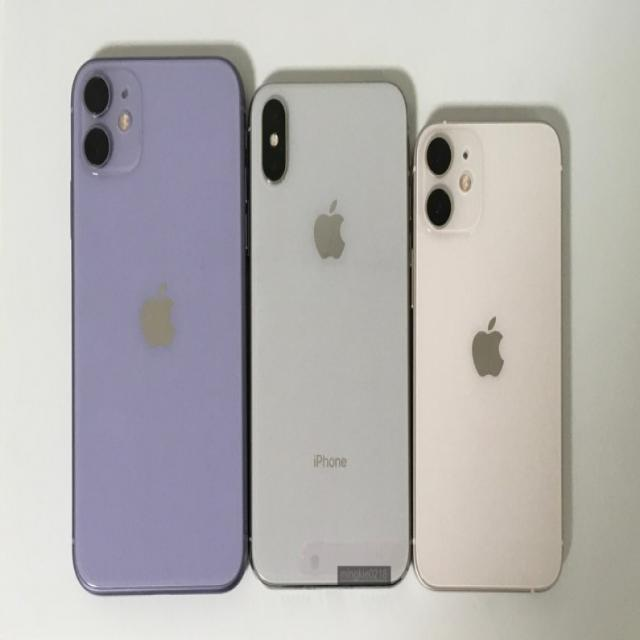phone: (69, 47, 251, 599), (248, 81, 412, 589), (413, 107, 566, 596)
